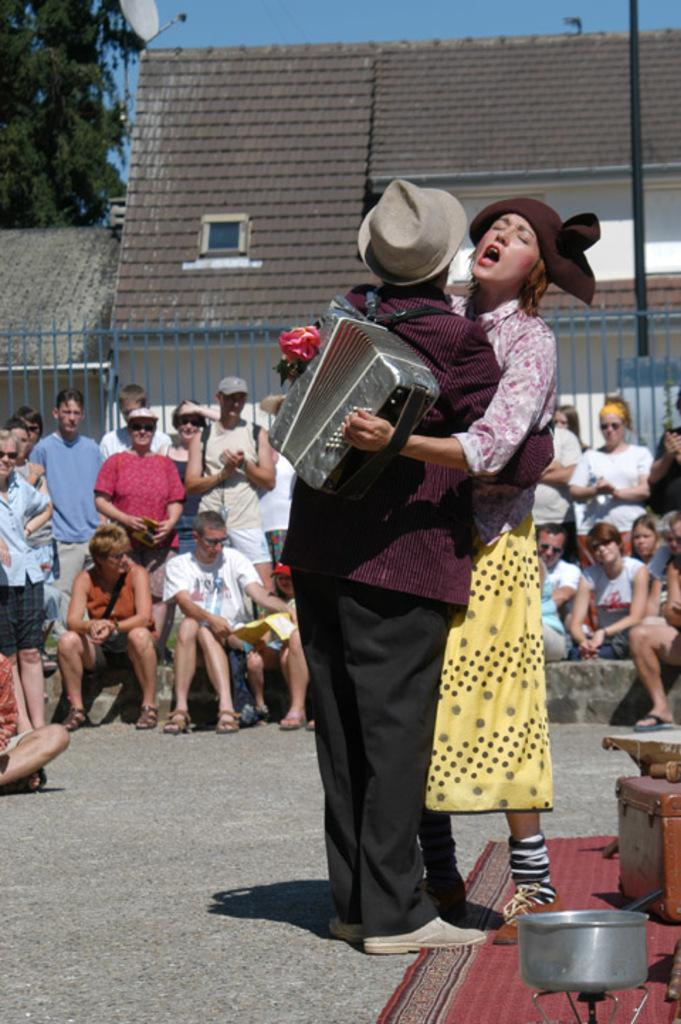Hat: (354, 178, 469, 289), (215, 372, 250, 400), (128, 407, 162, 425)
